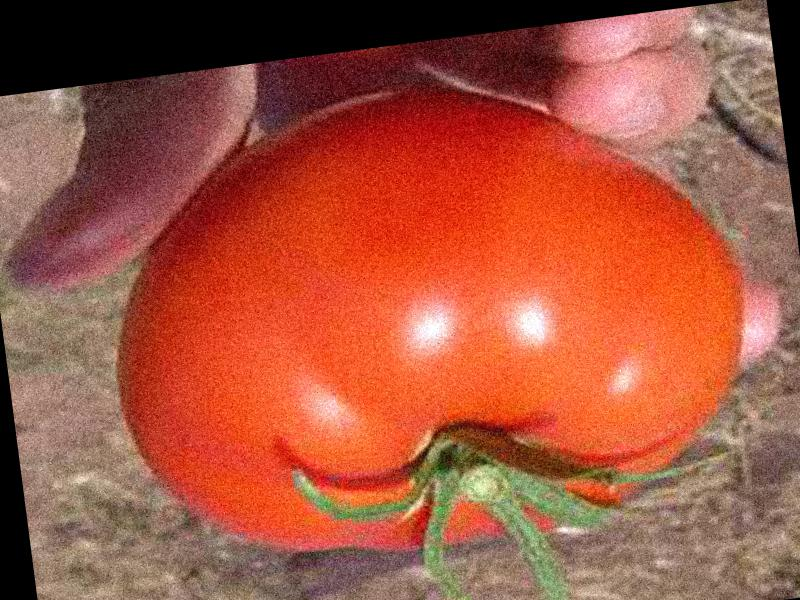Tomato: (86, 55, 767, 584)
